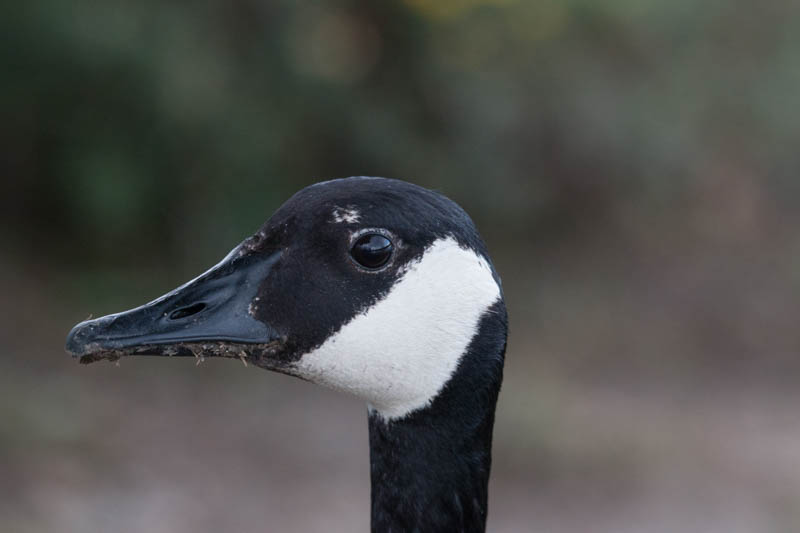goose-head: (64, 174, 508, 421)
